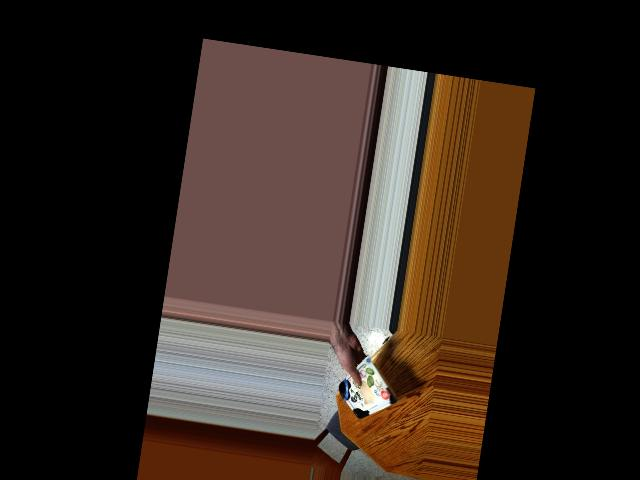cheese: (342, 359, 393, 421)
